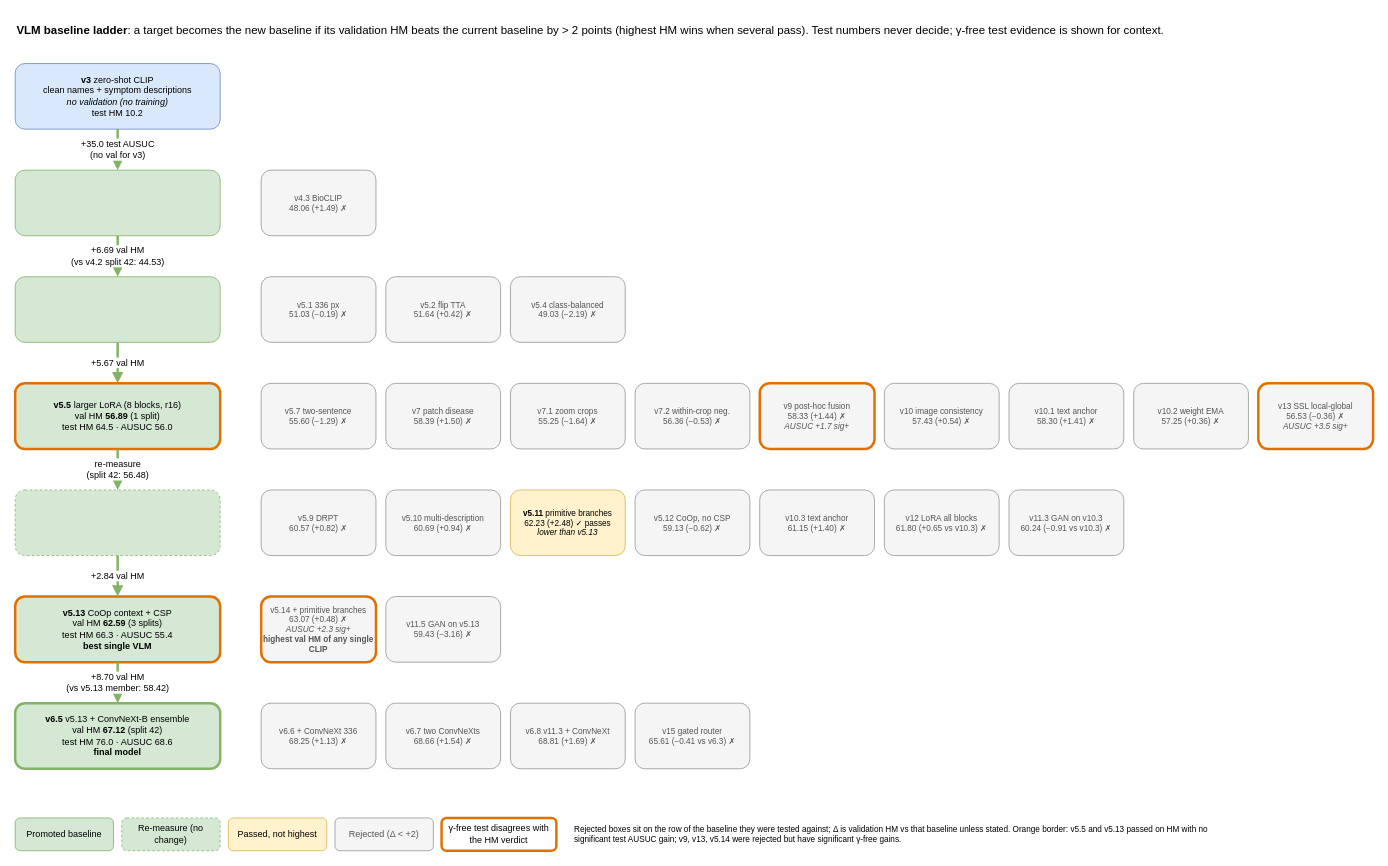
Image size: 1388x866. Some labels were removed from this diagram. The shapes that lost their labels are listed below. From the top down, each one's centre as x and y in pixels, then its label:
At pixel 117 202: "v4.2 CSP prompt learning val HM 46.57 (3 splits) test HM 51.8 · AUSUC 38.4".
At pixel 117 309: "v5 LoRA (last 4 blocks) val HM 51.22 (1 split) test HM 65.1 · AUSUC 55.3".
At pixel 117 522: "v5.8 = v5.5 re-measured val HM 59.75 (3 splits) not a change; 3-split reference".
